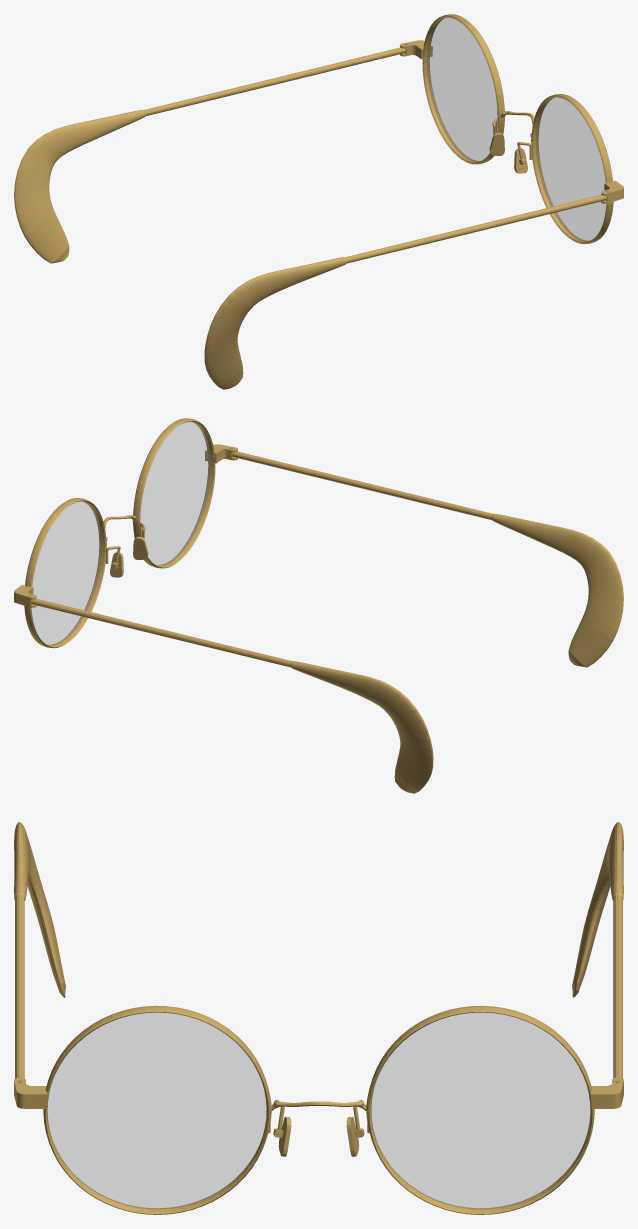
The model's file is model_2_gold.glb.
3 views of the same model, one above another, from view 1: azimuth 30°, elevation 25°; view 2: azimuth 150°, elevation 25°; view 3: azimuth 270°, elevation 25° (orthographic). The views are drawn at different scales.
Visible parts, largest first — view 1: Black_Frame_and_Temples, Transparent_Lens_Assembly_2, Transparent_Lens_Assembly_1; view 2: Black_Frame_and_Temples, Transparent_Lens_Assembly_2, Transparent_Lens_Assembly_1; view 3: Black_Frame_and_Temples, Transparent_Lens_Assembly_2, Transparent_Lens_Assembly_1.
Part boxes in pixels (x1,y1,x2,y2): Black_Frame_and_Temples: [14, 16, 623, 389]; Transparent_Lens_Assembly_2: [531, 94, 613, 244]; Transparent_Lens_Assembly_1: [427, 14, 505, 164]; Black_Frame_and_Temples: [14, 422, 623, 793]; Transparent_Lens_Assembly_2: [132, 418, 215, 568]; Transparent_Lens_Assembly_1: [24, 498, 106, 648]; Black_Frame_and_Temples: [14, 822, 623, 1213]; Transparent_Lens_Assembly_2: [43, 1005, 271, 1214]; Transparent_Lens_Assembly_1: [366, 1005, 594, 1214].
Bounding box in the file's own units: 400 × 158 × 336.
